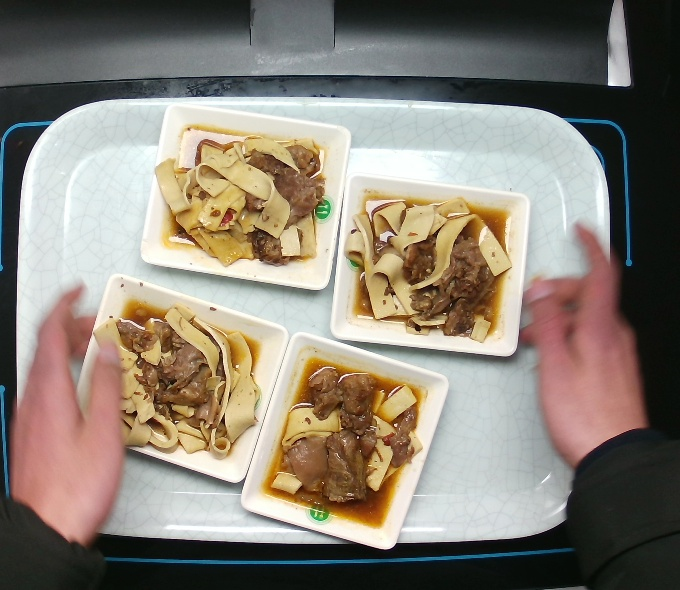wcq-QianZhangNiuNan: (264, 344, 434, 533), (156, 118, 333, 280), (97, 292, 266, 457), (345, 185, 513, 345)
